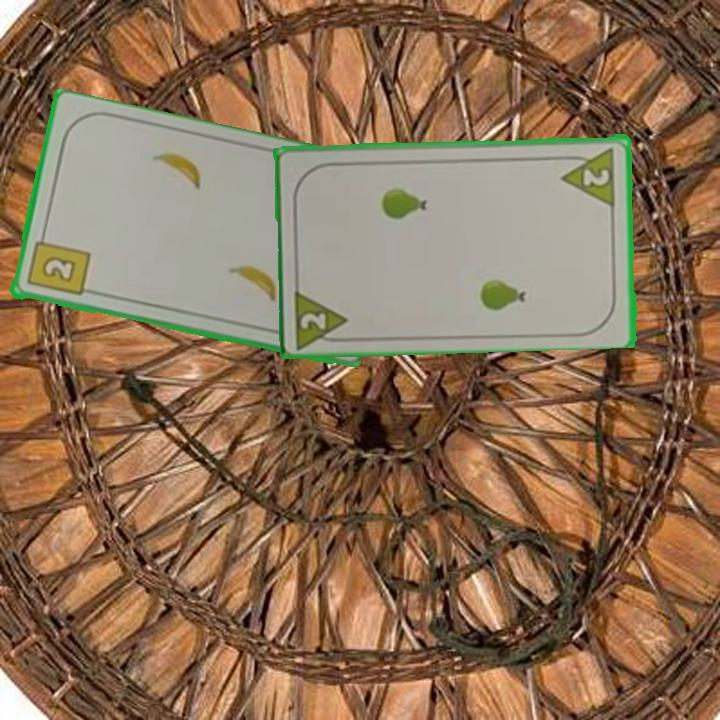2b: (23, 229, 92, 299)
2p: (291, 284, 353, 349), (558, 143, 619, 207)
